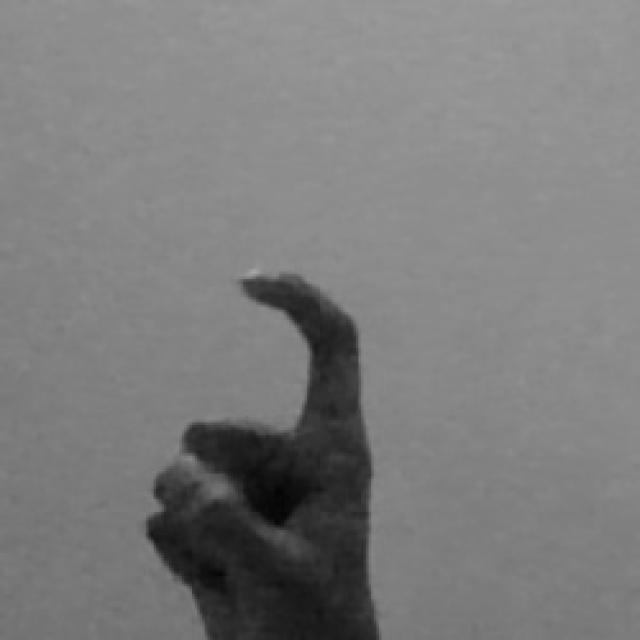X: (141, 256, 394, 640)
